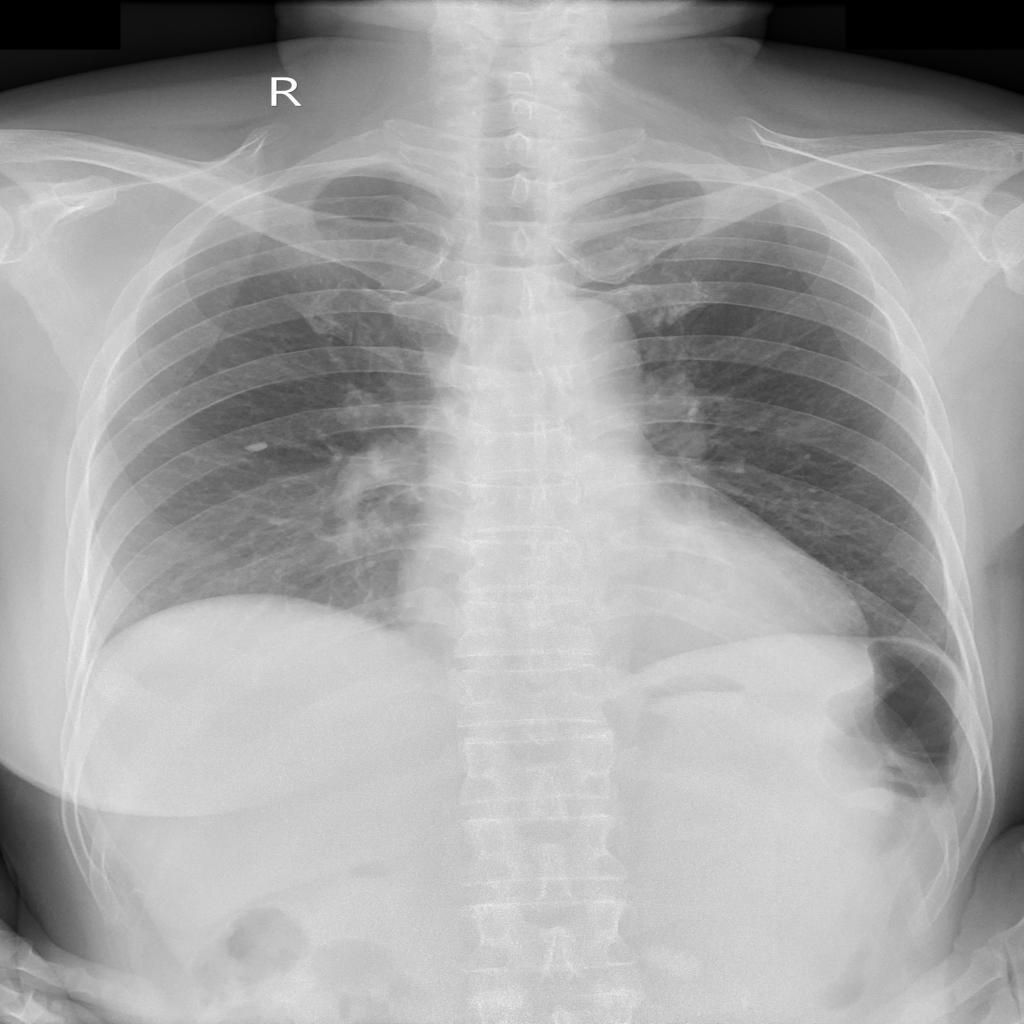Nodule: (245, 442, 272, 454)
